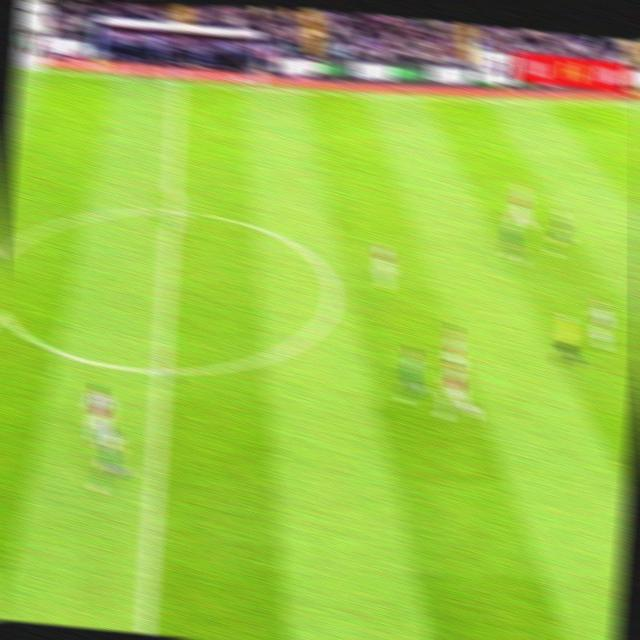halfcircle_bottom: (144, 348, 180, 390)
halfcircle_top: (151, 190, 192, 232)
midline_top_intersection: (164, 69, 191, 96)
